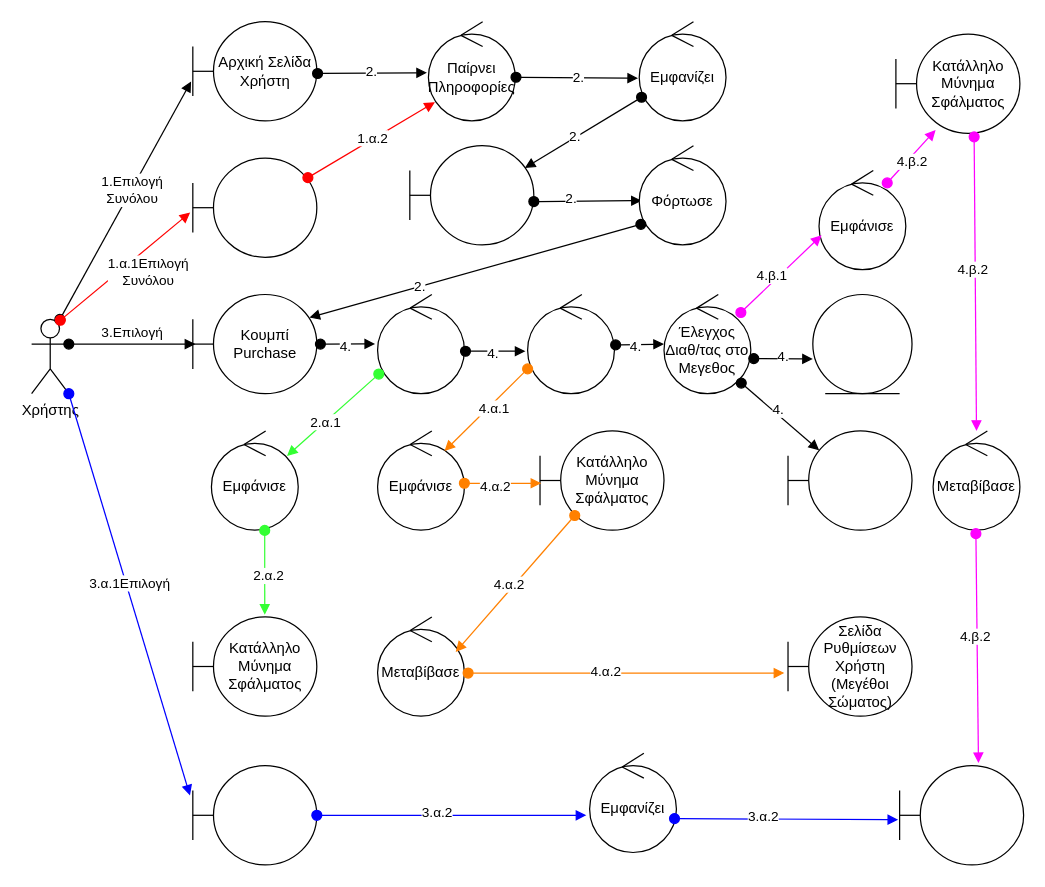
Image size: 1045x887. Some labels were removed from this diagram. The shapes that lost their labels are listed below. From the top down, each one's centre as x and y in pixels, then its label:
point 254,207: Σελίδα Εμφάνισης Αποτελεσμάτων
point 471,194: Σελίδα Περιγραφής Outfit
point 420,343: Έλεγχος Διαθ/τας
point 570,343: Έλεγχος Μεγέθους
point 862,343: Κατάστημα
point 849,480: Σελίδα Πληρωμών Καταστήματος
point 254,814: Κουμπί "<"
point 961,814: Σελίδα Εύρεσης του Συνόλου
